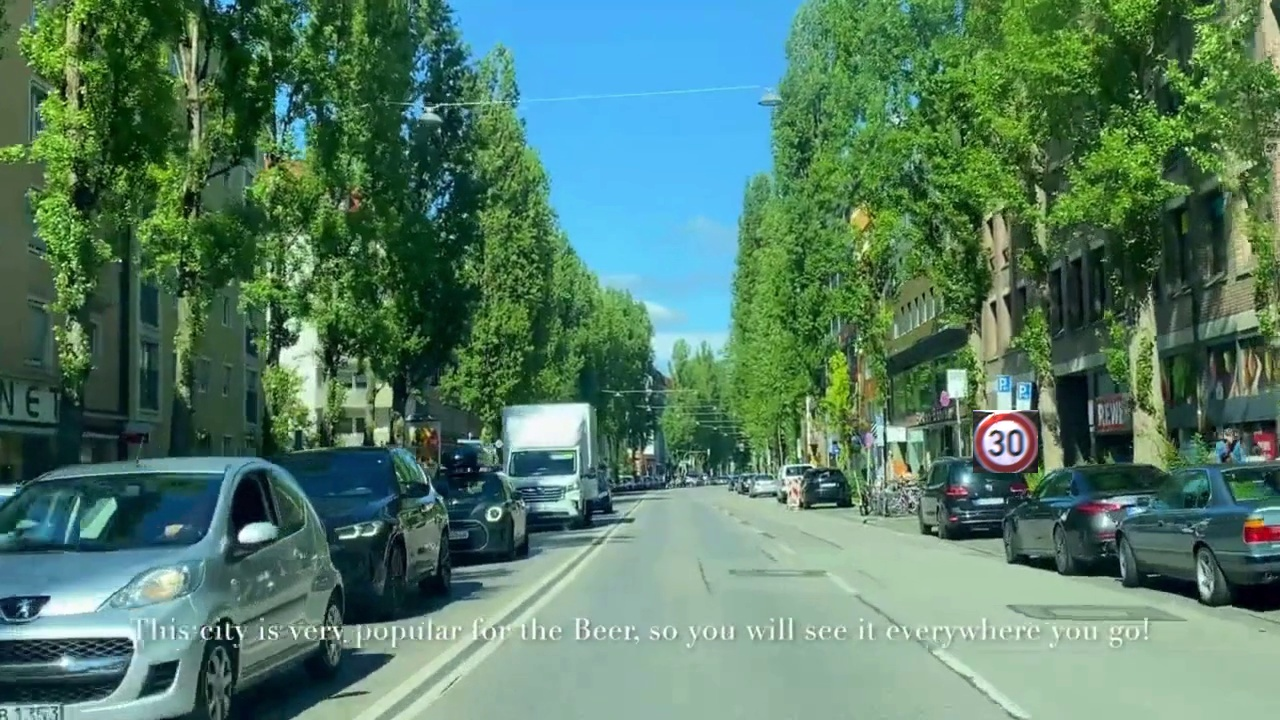Speed 30: (973, 410, 1038, 473)
